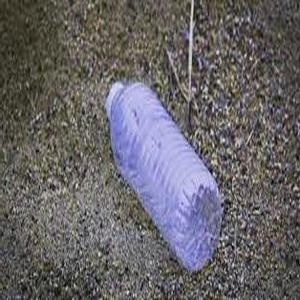Plastic: (104, 80, 223, 275)
